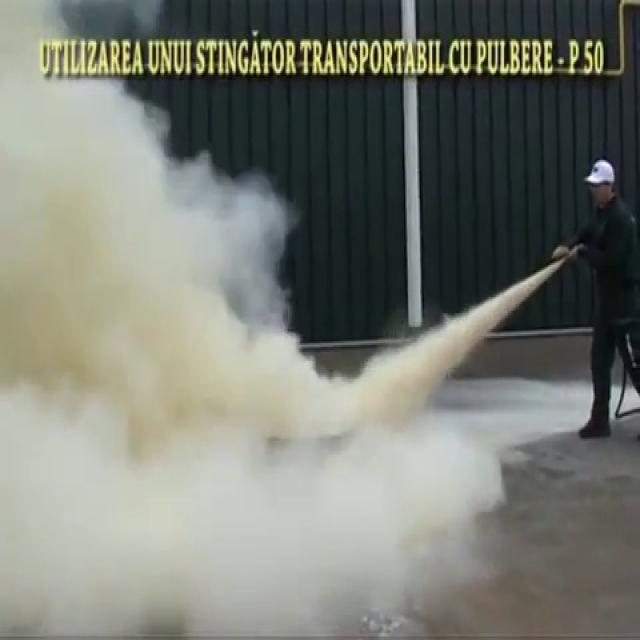Smoke: (0, 2, 536, 640)
